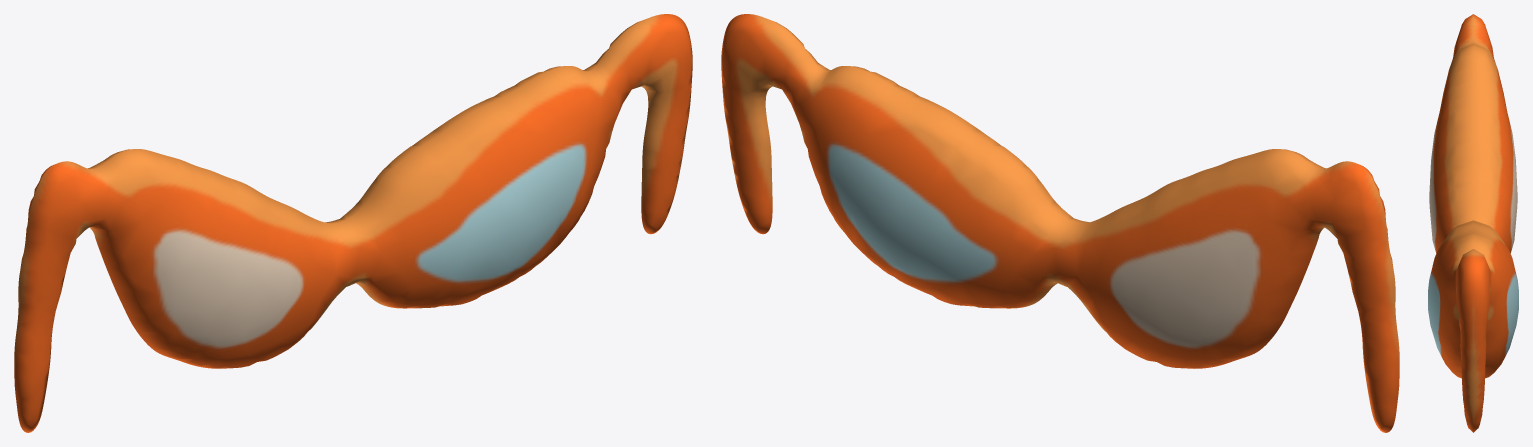
File: orange.glb
3 views of the same model, side by side, from view 1: azimuth 30°, elevation 25°; view 2: azimuth 150°, elevation 25°; view 3: azimuth 270°, elevation 25° (orthographic). The views are drawn at different scales.
Visible parts, largest first — view 1: Mesh_0.011; view 2: Mesh_0.011; view 3: Mesh_0.011.
Boxes of the visible parts, bbox=[...] form: Mesh_0.011: bbox=[14, 14, 692, 432]; Mesh_0.011: bbox=[721, 14, 1399, 432]; Mesh_0.011: bbox=[1428, 14, 1518, 432].
Bounding box in the file's own units: 392 × 146 × 55.19.
1 material, 1 textured.
